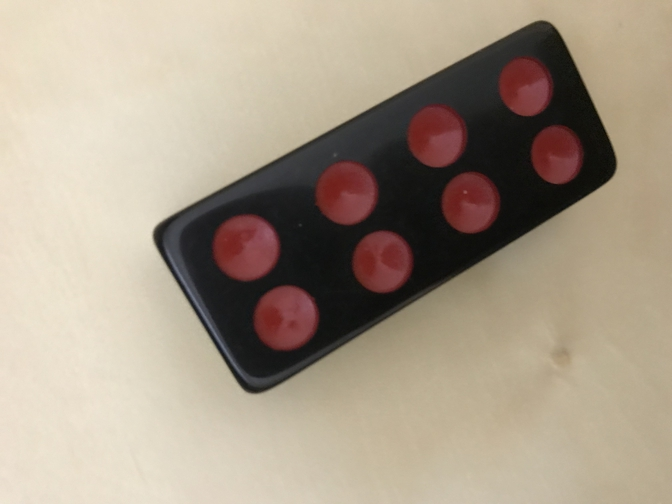man: (151, 20, 617, 393)
